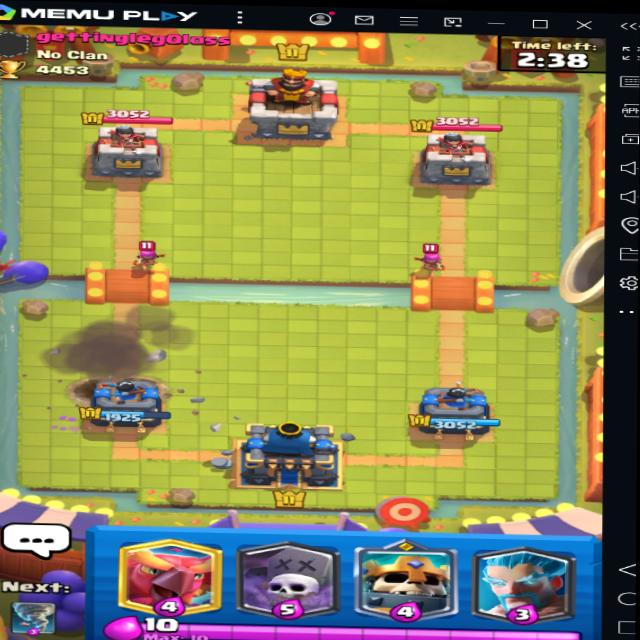archer: (394, 233, 477, 278), (114, 228, 167, 271)
